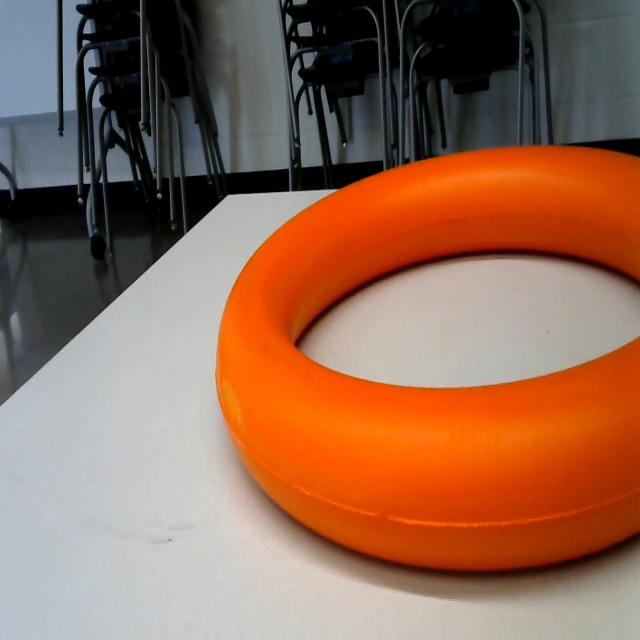note: (211, 120, 640, 592)
